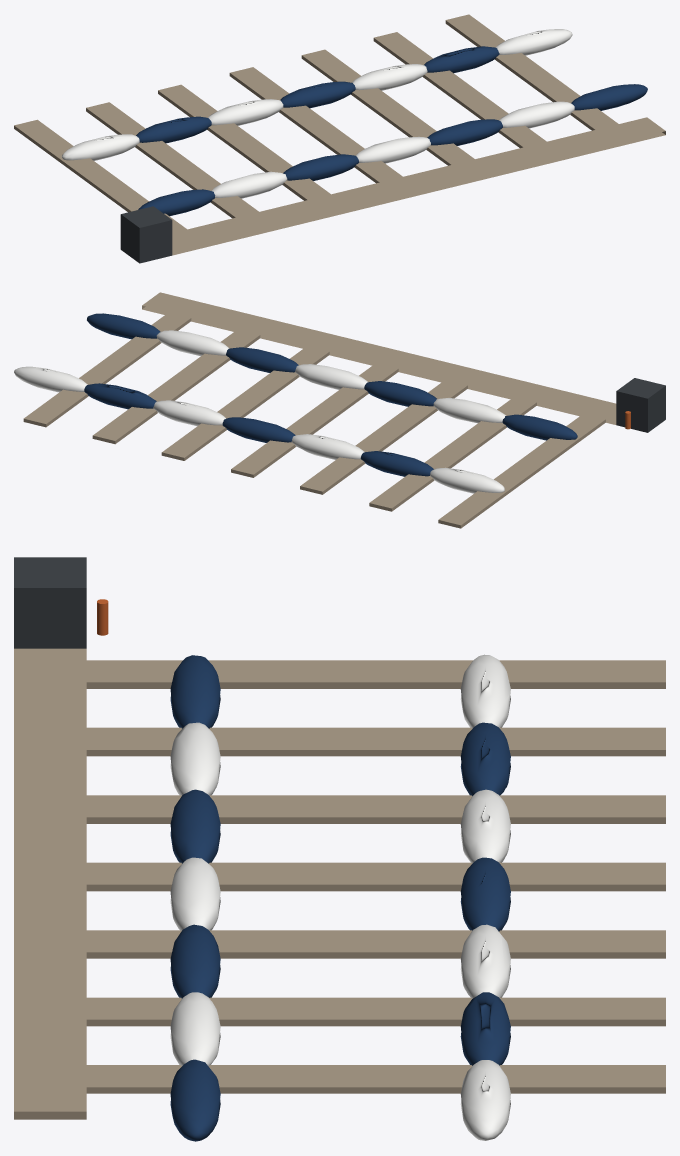
The model's file is b08-marina-pontoon-cluster.lod1.glb.
3 views of the same model, one above another, from view 1: azimuth 30°, elevation 25°; view 2: azimuth 150°, elevation 25°; view 3: azimuth 270°, elevation 25° (orthographic). The views are drawn at different scales.
Visible parts, largest first — view 1: part0, part10, part4, part16, part19, part7, part13, part1, part22, part3, part20, part9 (+11 smaller); view 2: part0, part1, part16, part19, part13, part10, part7, part4, part22, part2, part3, part20 (+11 smaller); view 3: part0, part16, part4, part10, part1, part7, part13, part19, part22, part20, part21, part8 (+11 smaller).
Part boxes in pixels (x1=…): part0: x1=172, y1=117, x2=665, y2=255; part10: x1=229, y1=67, x2=402, y2=183; part4: x1=86, y1=102, x2=258, y2=218; part16: x1=373, y1=32, x2=546, y2=148; part19: x1=445, y1=14, x2=618, y2=130; part7: x1=158, y1=84, x2=330, y2=200; part13: x1=301, y1=49, x2=474, y2=165; part1: x1=14, y1=119, x2=186, y2=232; part22: x1=120, y1=206, x2=172, y2=263; part3: x1=61, y1=134, x2=139, y2=160; part20: x1=571, y1=84, x2=647, y2=110; part9: x1=208, y1=99, x2=283, y2=125; part0: x1=142, y1=292, x2=616, y2=424; part1: x1=438, y1=413, x2=605, y2=528; part16: x1=92, y1=329, x2=260, y2=444; part19: x1=23, y1=312, x2=191, y2=427; part13: x1=161, y1=346, x2=329, y2=460; part10: x1=231, y1=363, x2=398, y2=477; part7: x1=300, y1=380, x2=467, y2=494; part4: x1=369, y1=397, x2=536, y2=511; part22: x1=616, y1=378, x2=665, y2=432; part2: x1=502, y1=414, x2=577, y2=440; part3: x1=430, y1=467, x2=504, y2=493; part20: x1=87, y1=313, x2=160, y2=339; part0: x1=14, y1=648, x2=86, y2=1119; part16: x1=86, y1=997, x2=665, y2=1026; part4: x1=86, y1=727, x2=665, y2=756; part10: x1=86, y1=862, x2=665, y2=891; part1: x1=86, y1=660, x2=665, y2=688; part7: x1=86, y1=795, x2=665, y2=823; part13: x1=86, y1=930, x2=665, y2=958; part19: x1=86, y1=1065, x2=665, y2=1093; part22: x1=14, y1=557, x2=86, y2=648; part20: x1=170, y1=1059, x2=220, y2=1141; part21: x1=460, y1=1060, x2=510, y2=1140; part8: x1=170, y1=789, x2=220, y2=863.
Bounding box in the file's own units: 42432 × 2950 × 22450.
